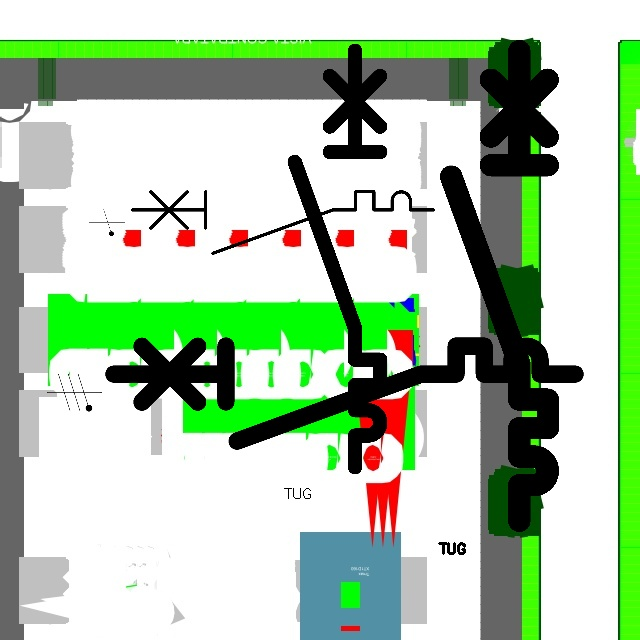interruptor_termomagnetico: (439, 39, 560, 533), (101, 334, 586, 453), (284, 40, 391, 478), (124, 184, 441, 261)
